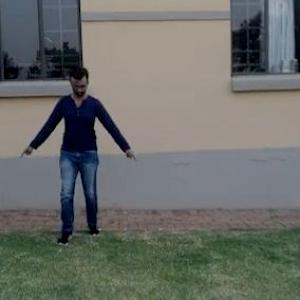land: (0, 58, 131, 257)
